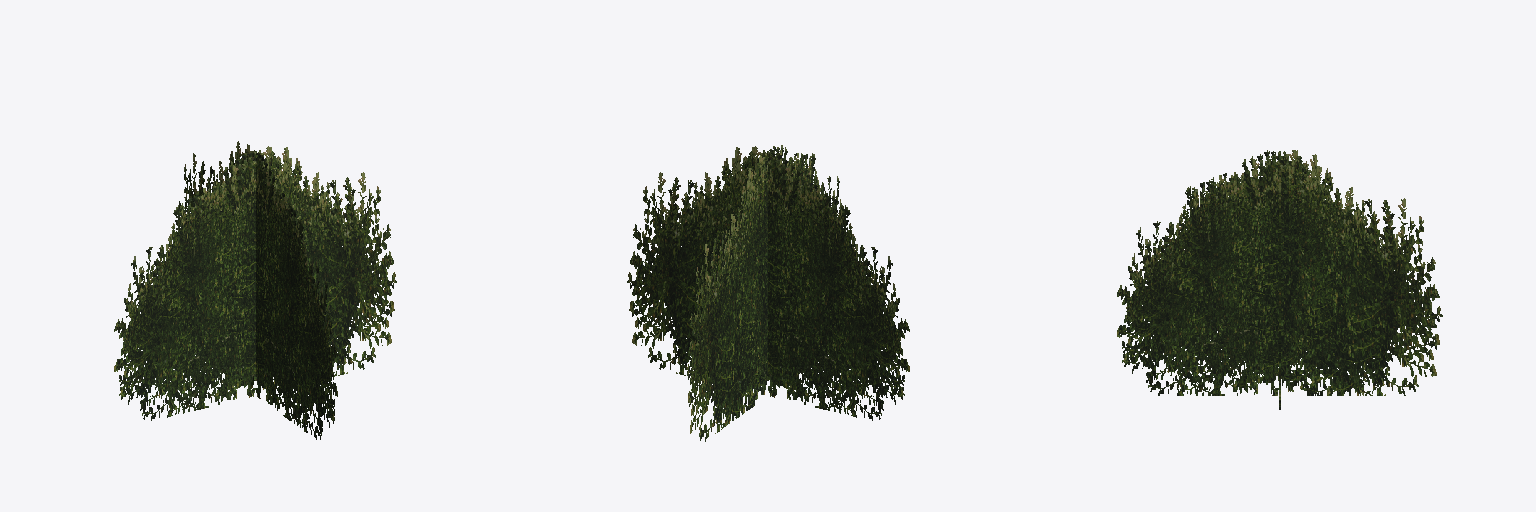
3 views of the same model, side by side, from view 1: azimuth 30°, elevation 25°; view 2: azimuth 150°, elevation 25°; view 3: azimuth 270°, elevation 25° (orthographic).
Visible parts, largest first — view 1: CreateFan; view 2: CreateFan; view 3: CreateFan.
Part boxes in pixels (bbox=[...]): CreateFan: bbox=[114, 141, 396, 439]; CreateFan: bbox=[627, 145, 909, 441]; CreateFan: bbox=[1117, 150, 1442, 409].
Bounding box in the file's own units: 1.15 × 1 × 1.15.
1 materials, 1 textured.